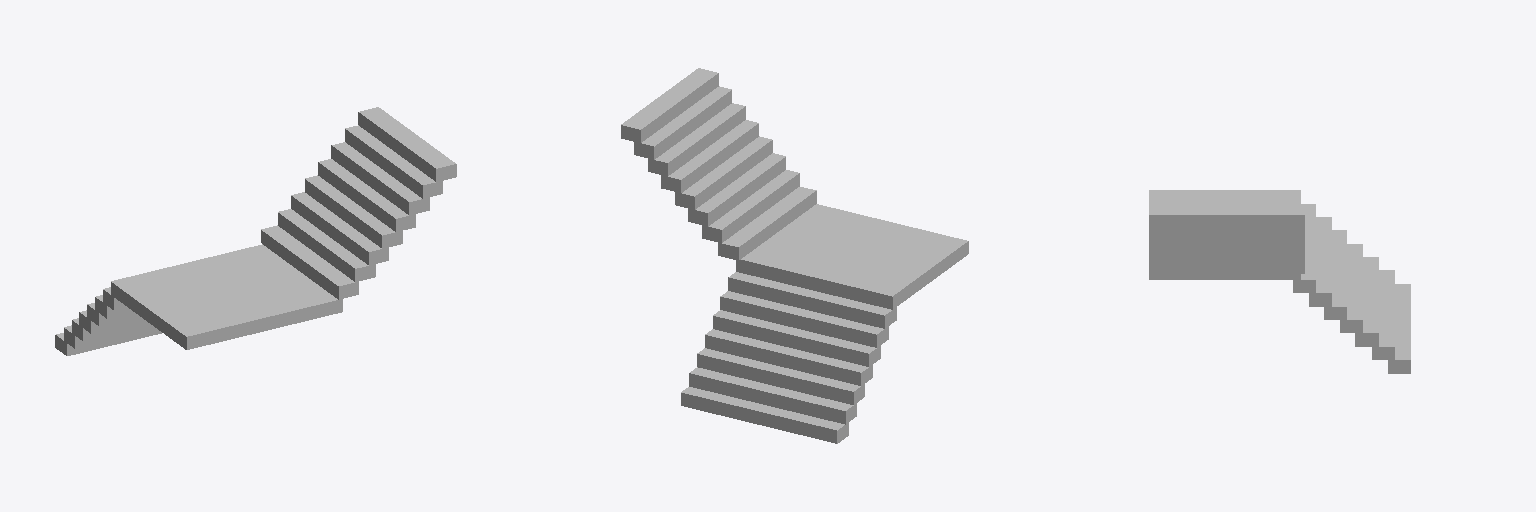
File: schody.obj
3 renders of one model, left to right at view 1: azimuth 30°, elevation 25°; view 2: azimuth 150°, elevation 25°; view 3: azimuth 270°, elevation 25°, orthographic.
Bounding box in the file's own units: 8.01 × 6.07 × 6.73.